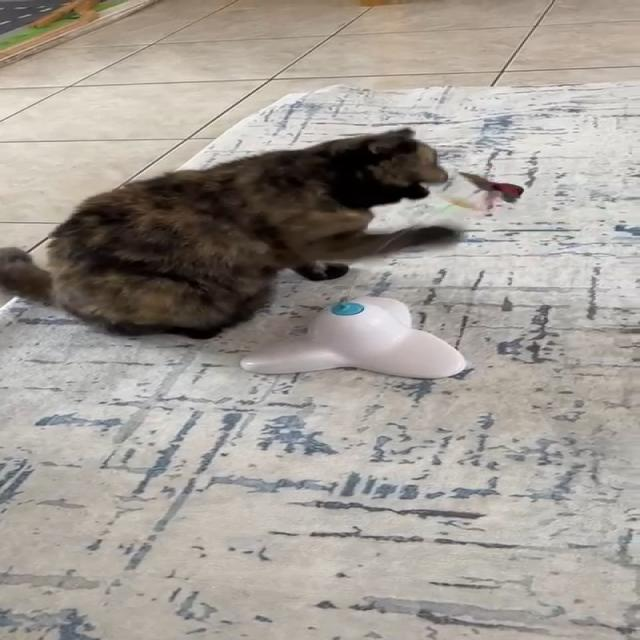authorized: (1, 125, 459, 340)
